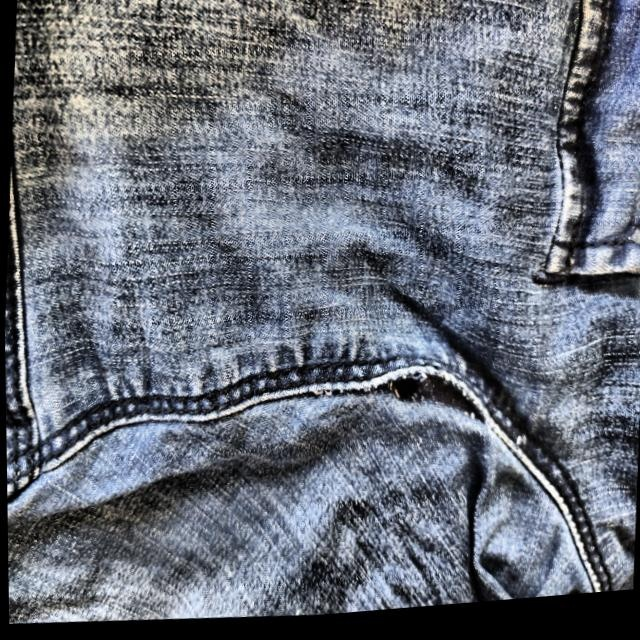seam: (349, 328, 514, 452)
